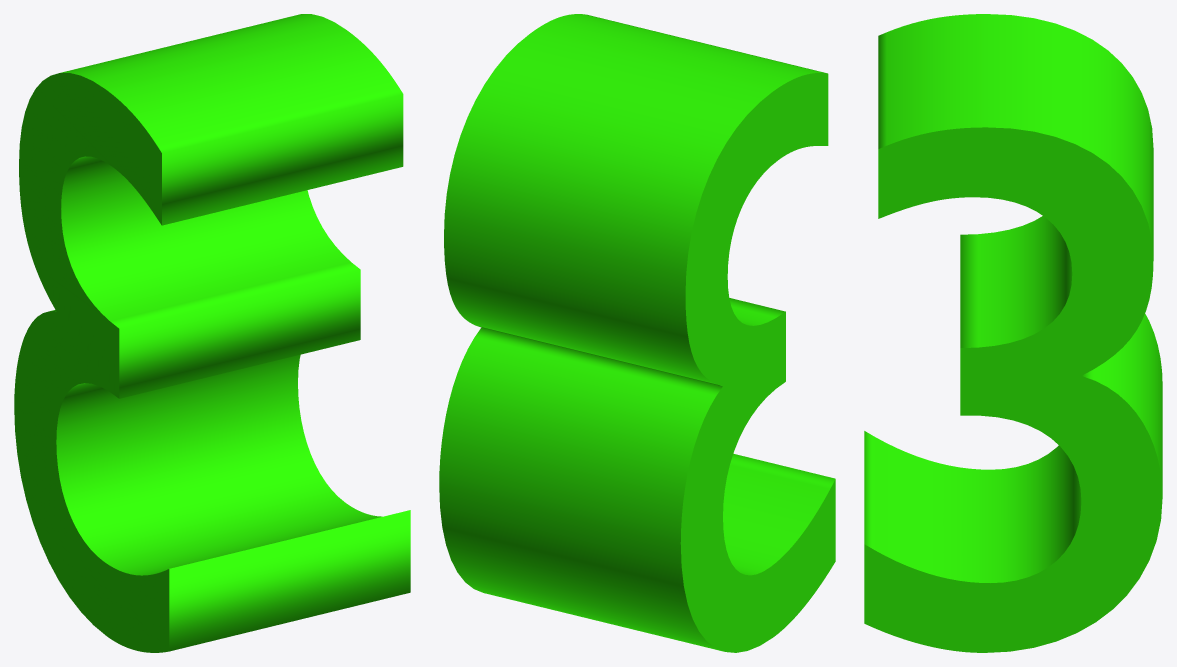
File: number3.obj
3 renders of one model, left to right at view 1: azimuth 30°, elevation 25°; view 2: azimuth 150°, elevation 25°; view 3: azimuth 270°, elevation 25°, orthographic. The views are drawn at different scales.
Visible parts, largest first — view 1: Text.011_Text.012; view 2: Text.011_Text.012; view 3: Text.011_Text.012.
Boxes of the visible parts, x1,y1,x2,y2 form: Text.011_Text.012: (14,14,410,652); Text.011_Text.012: (439,14,835,652); Text.011_Text.012: (864,14,1162,652).
Bounding box in the file's own units: 2.23 × 4.83 × 2.48.
